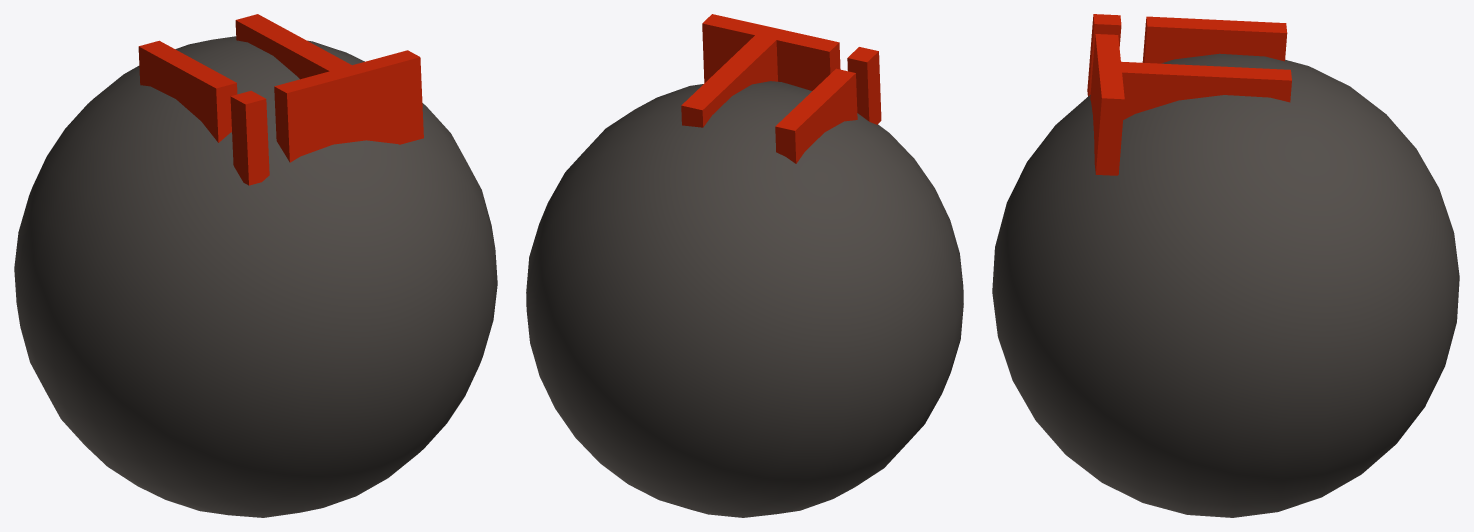
The model's file is Tintalio.FBX.
3 renders of one model, left to right at view 1: azimuth 30°, elevation 25°; view 2: azimuth 150°, elevation 25°; view 3: azimuth 270°, elevation 25°, orthographic. The views are drawn at different scales.
Visible parts, largest first — view 1: Ti; view 2: Ti; view 3: Ti.
Boxes of the visible parts, x1,y1,x2,y2 form: Ti: (14, 14, 497, 517); Ti: (526, 14, 963, 517); Ti: (992, 14, 1459, 517).
Bounding box in the file's own units: 38.71 × 40.72 × 38.71.
